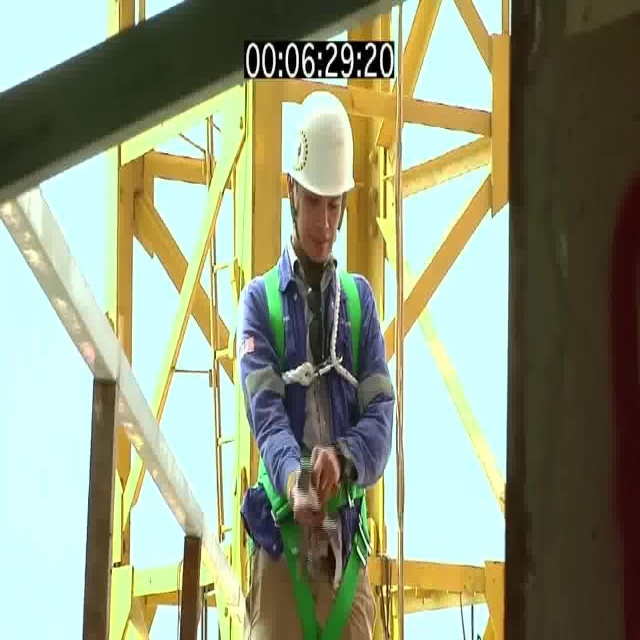Arnes_seguridad: (259, 259, 375, 637)
